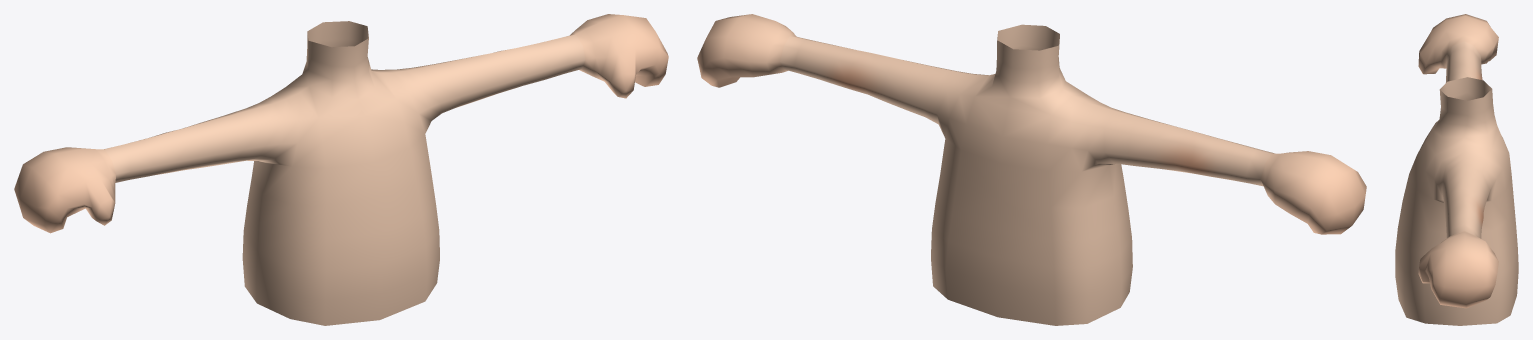
The model's file is Body_Top_1.fbx.
3 renders of one model, left to right at view 1: azimuth 30°, elevation 25°; view 2: azimuth 150°, elevation 25°; view 3: azimuth 270°, elevation 25°, orthographic. The views are drawn at different scales.
Parts seen in each view (by area): view 1: Body_Top_1; view 2: Body_Top_1; view 3: Body_Top_1.
Part boxes in pixels (x1=…): Body_Top_1: x1=14, y1=14, x2=668, y2=325; Body_Top_1: x1=697, y1=14, x2=1366, y2=325; Body_Top_1: x1=1395, y1=14, x2=1518, y2=325.
Bounding box in the file's own units: 130 × 49.84 × 26.46.
